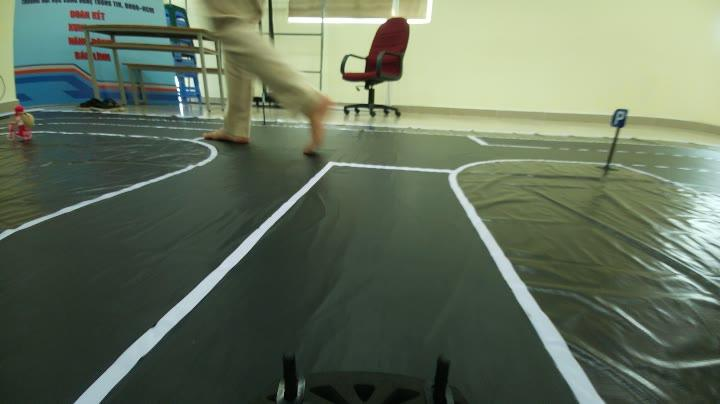parking: (610, 106, 631, 131)
